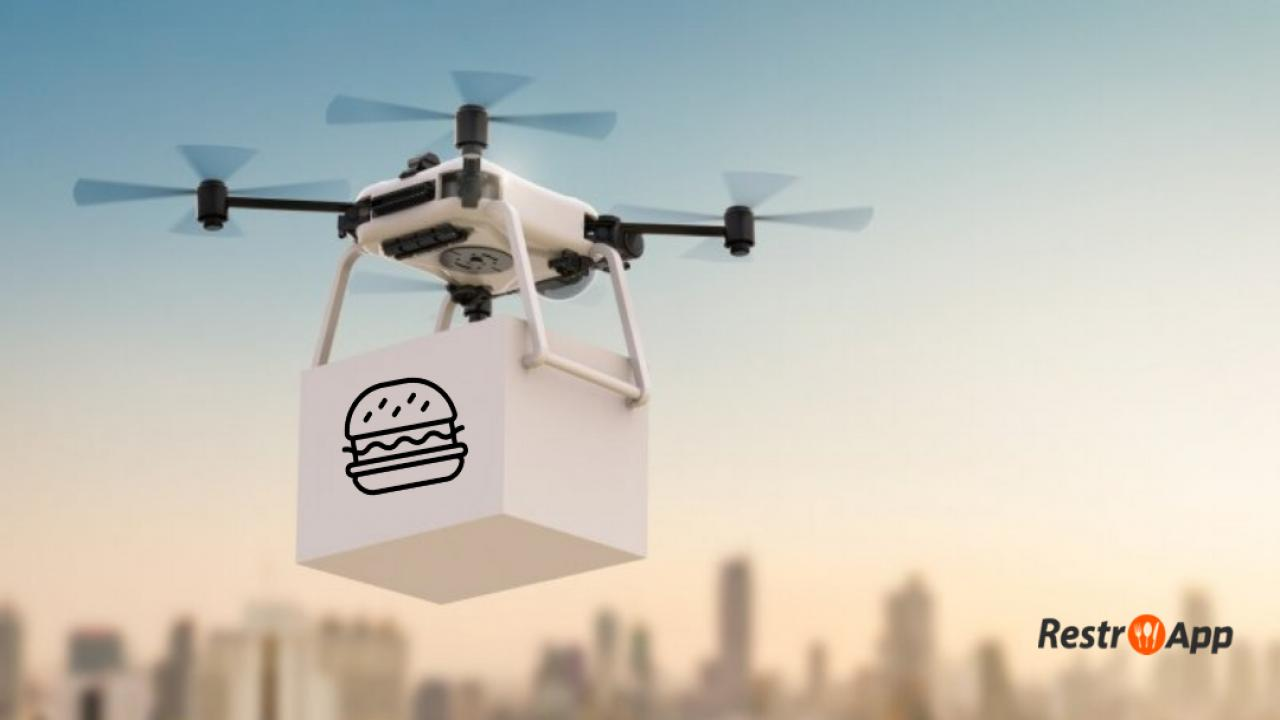Drone: (59, 54, 894, 419)
